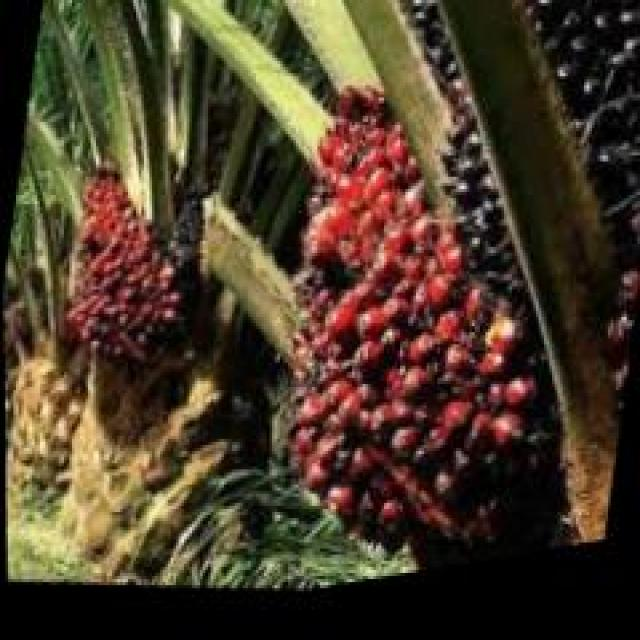Ripefruit: (252, 58, 604, 606), (52, 154, 201, 382)
